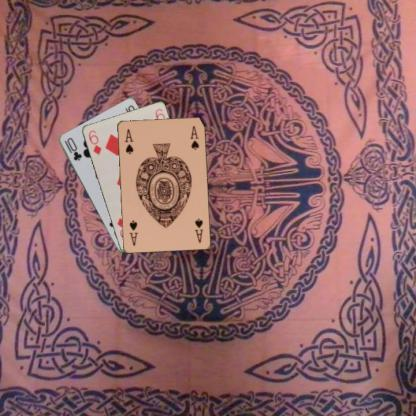10c: (62, 134, 83, 162)
6d: (86, 128, 102, 156)
As: (122, 126, 134, 155), (192, 215, 204, 244)
